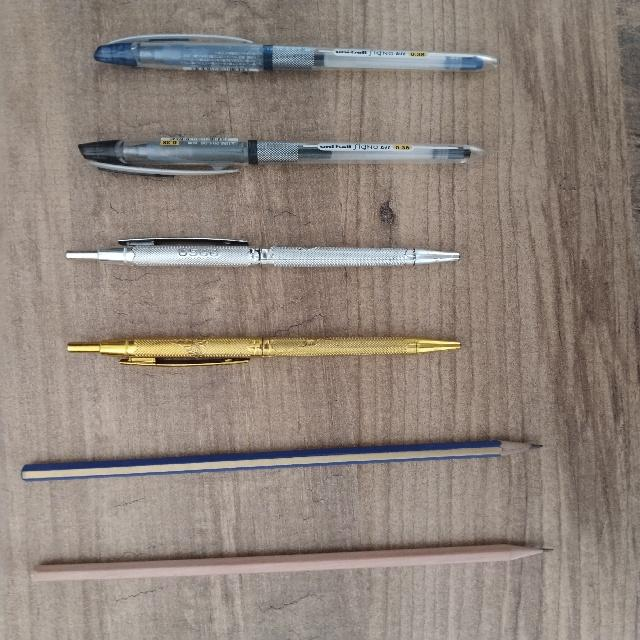pen: (79, 137, 483, 175), (94, 34, 496, 71)
pencil: (22, 440, 539, 480), (31, 544, 544, 581)
signature pen: (66, 238, 458, 266), (67, 337, 459, 365)
